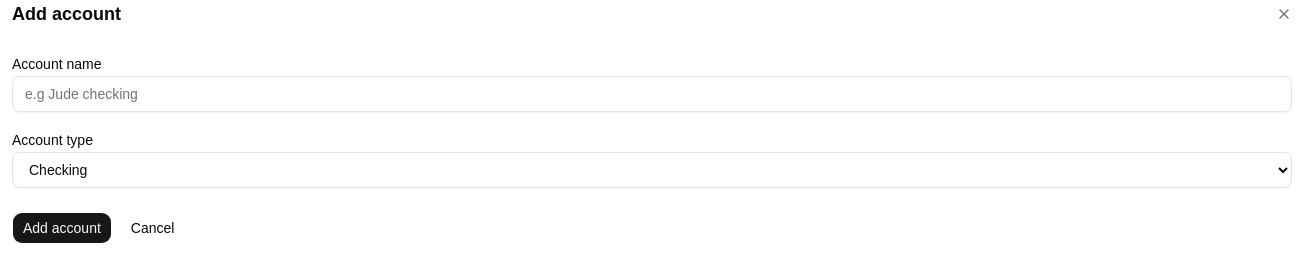
Scenario: AccountForm › shows a validation error and does not submit when the name is empty
Click the button "Add account".
click(62, 228)  # box x1=12 y1=212 x2=112 y2=244
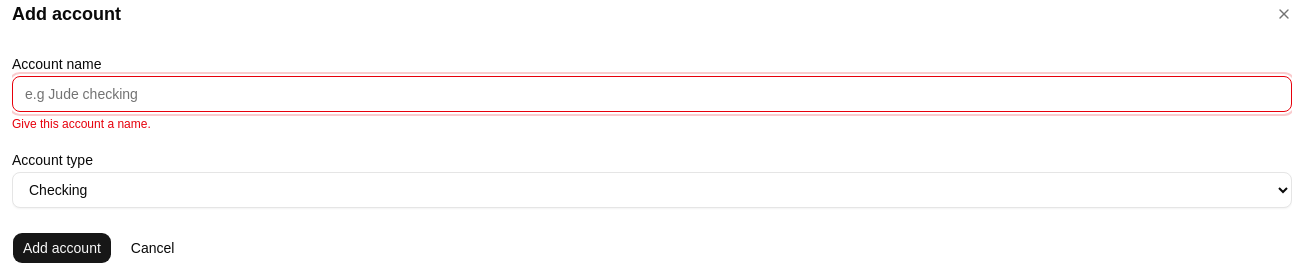
Expected: the text "Give this account a name." is shown, x1=12 y1=117 x2=151 y2=131
